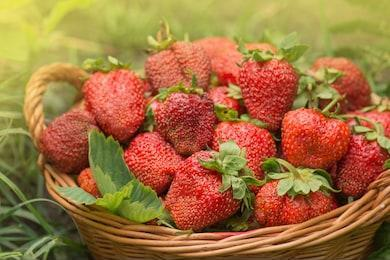Fresa: (161, 146, 247, 233), (81, 62, 149, 147), (276, 105, 355, 175), (237, 51, 302, 135), (150, 86, 217, 158), (329, 127, 390, 200)
